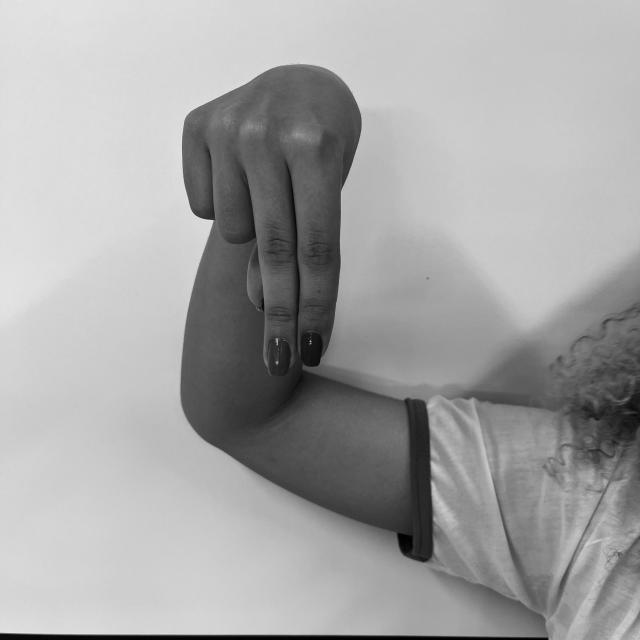Letra N: (176, 57, 370, 383)
